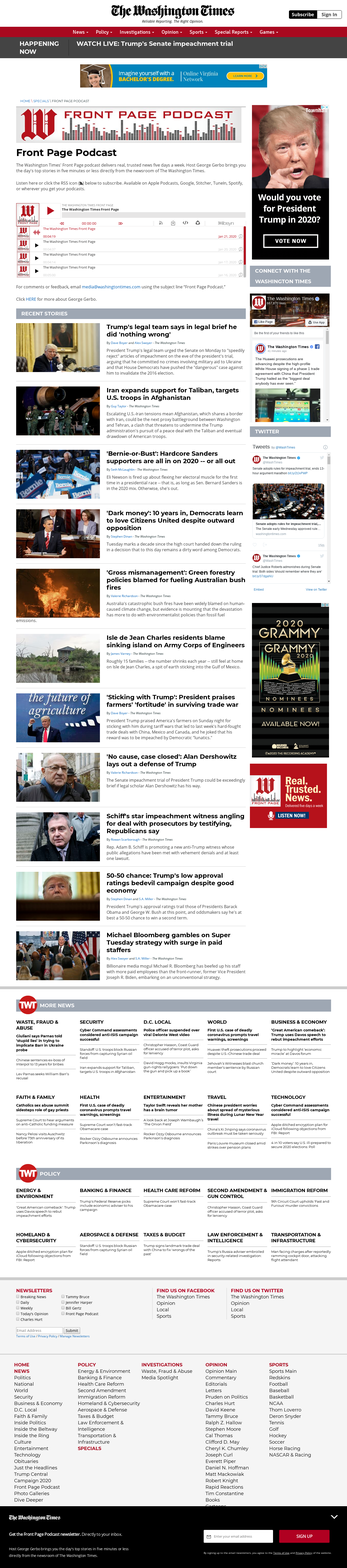fake_button: (261, 232, 321, 250), (224, 69, 267, 84), (274, 811, 312, 821)
